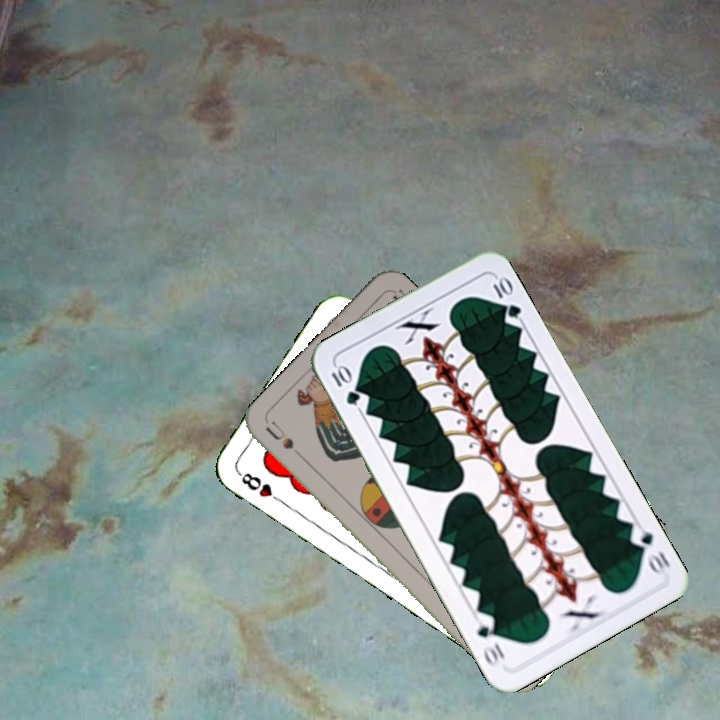G10: (626, 521, 673, 579), (327, 361, 363, 408)
H8: (234, 468, 287, 506)
SU: (262, 418, 311, 467)
